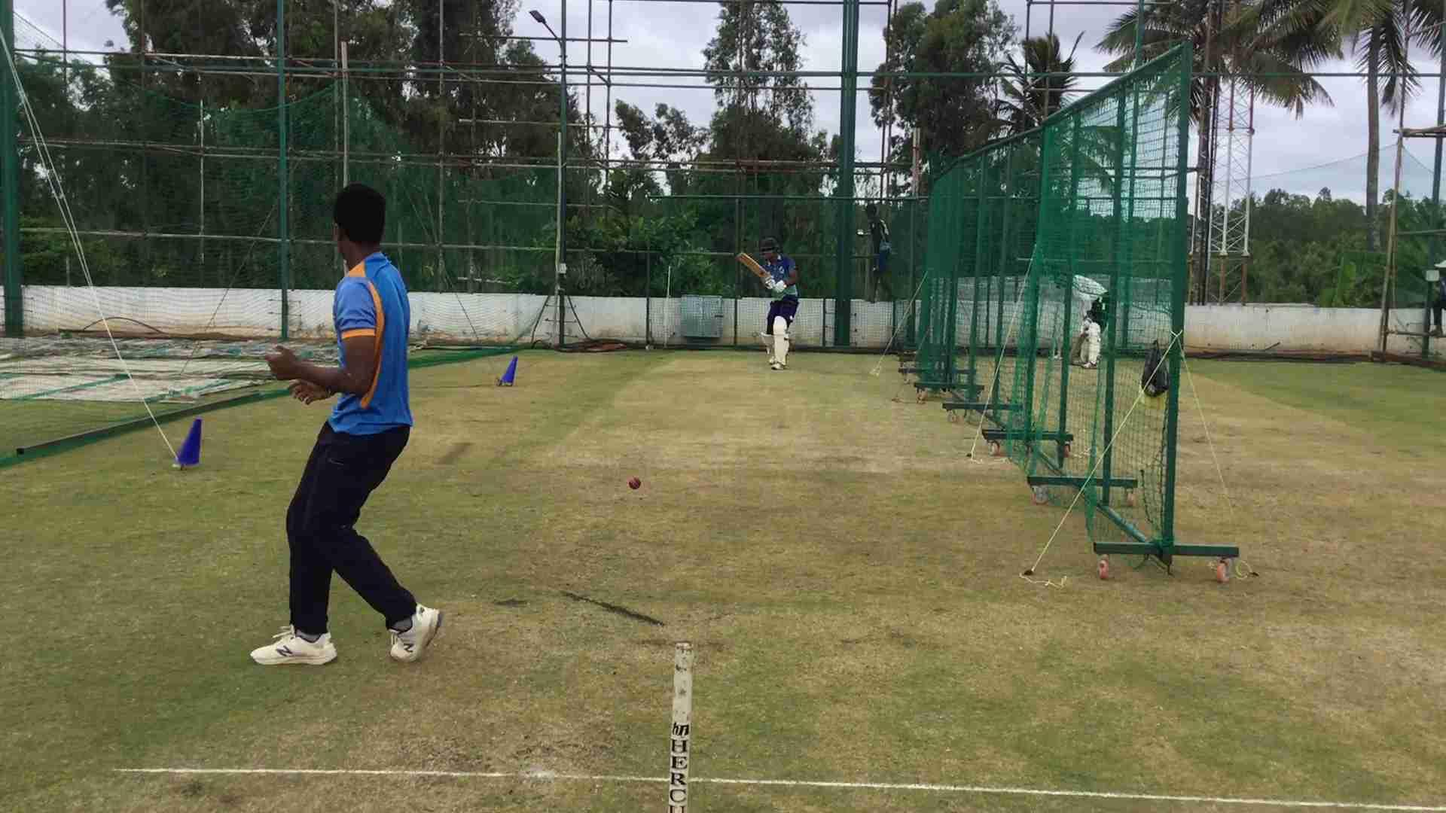batsman: (762, 244, 805, 373)
